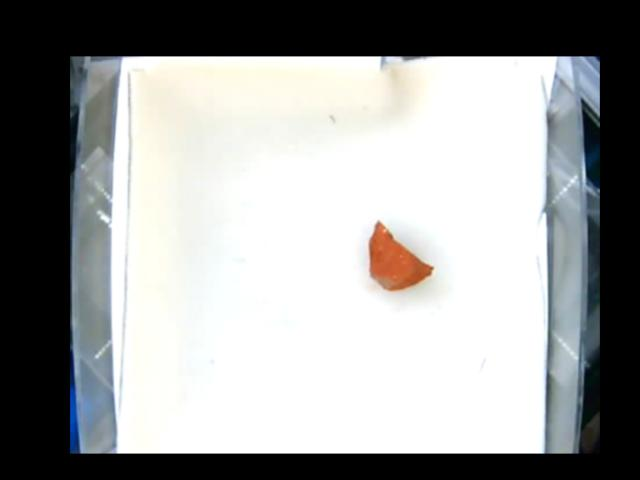Brisk: (368, 219, 434, 292)
